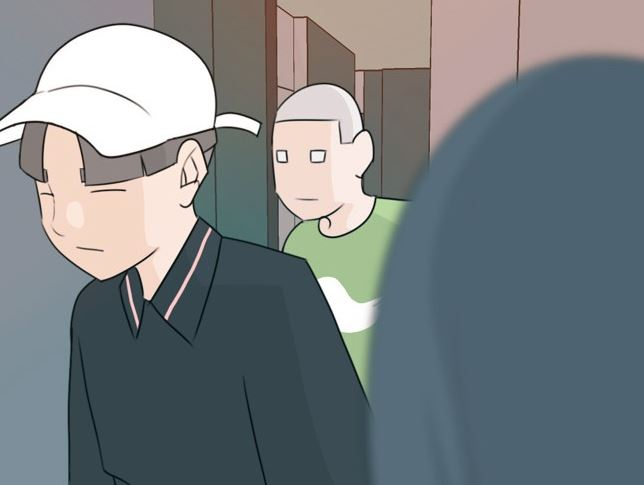hat: (1, 19, 225, 157)
